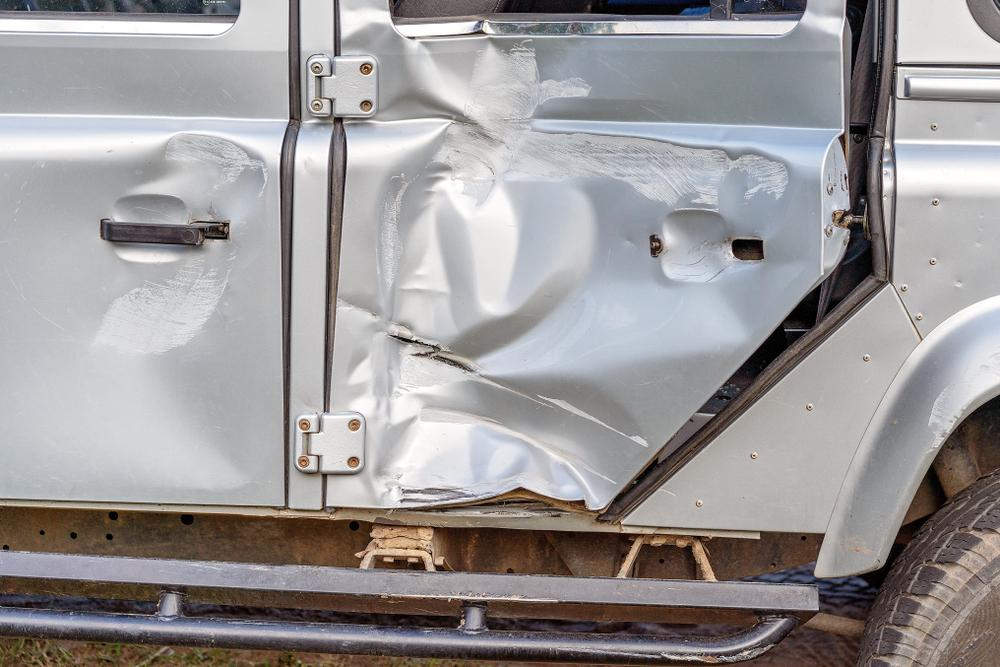dent: (346, 16, 793, 516), (91, 276, 250, 488), (139, 135, 267, 220)
scratch: (924, 353, 1000, 458)
